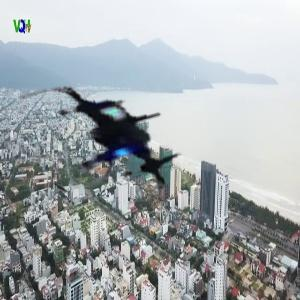drone: (34, 65, 182, 213)
